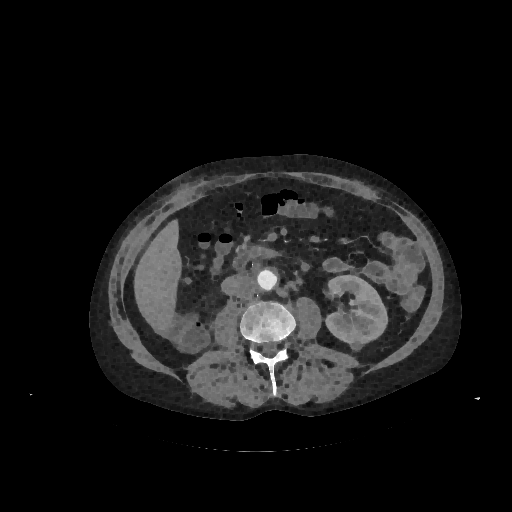Lesion: (347, 340, 365, 353)
